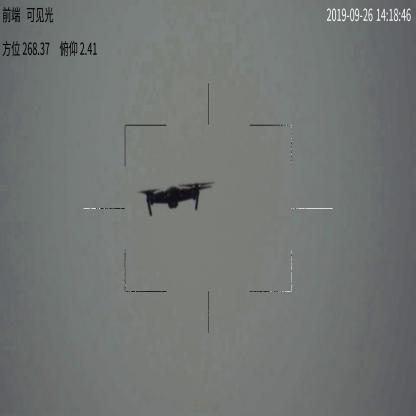uav: (132, 177, 211, 218)
